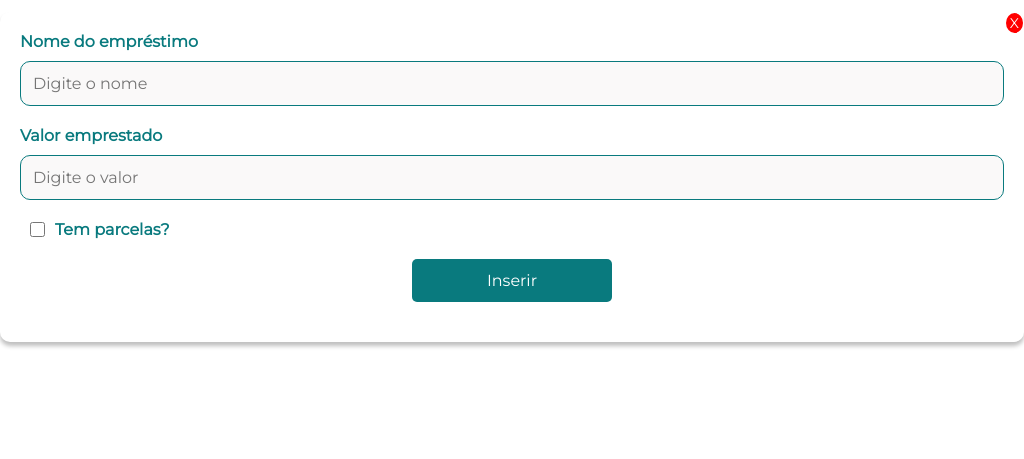
Test case: Testing ModalNewEmprestimo component › should be visible input parcela if input checkbox checked
Step 1. Click the checkbox labelled "Tem parcelas?" → [38, 230], box x1=30 y1=222 x2=45 y2=237
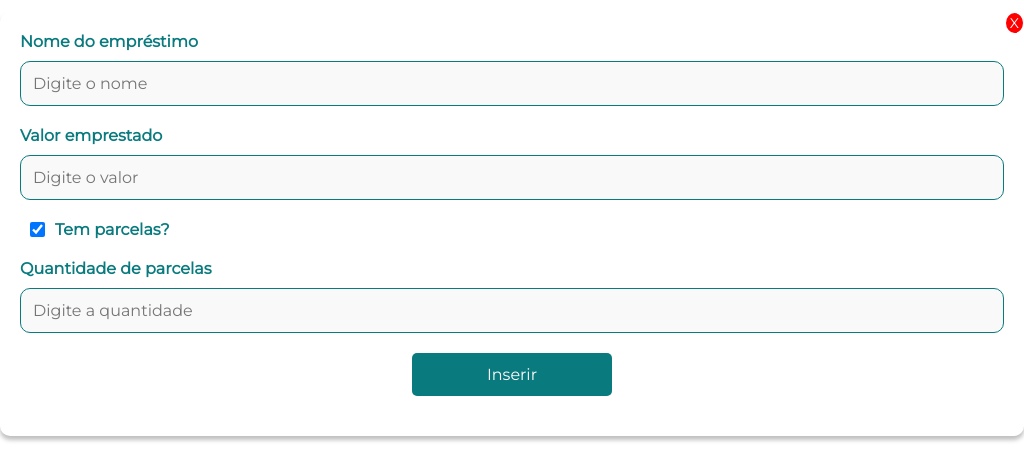
expect the number field with placeholder "Digite a quantidade" is shown: met, box x1=20 y1=288 x2=1004 y2=333
